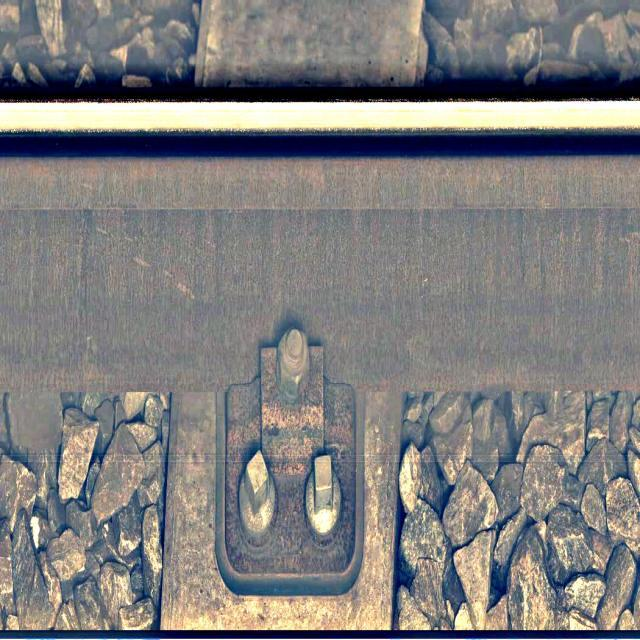Good Fasteners: (220, 326, 363, 594)
